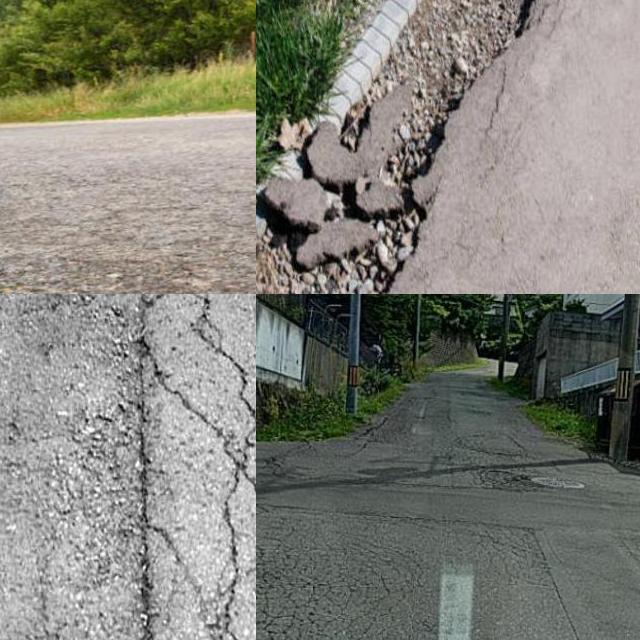Memanjang: (115, 294, 256, 640)
Pinggir: (256, 0, 573, 294)
Retak Buaya: (256, 504, 378, 640)
